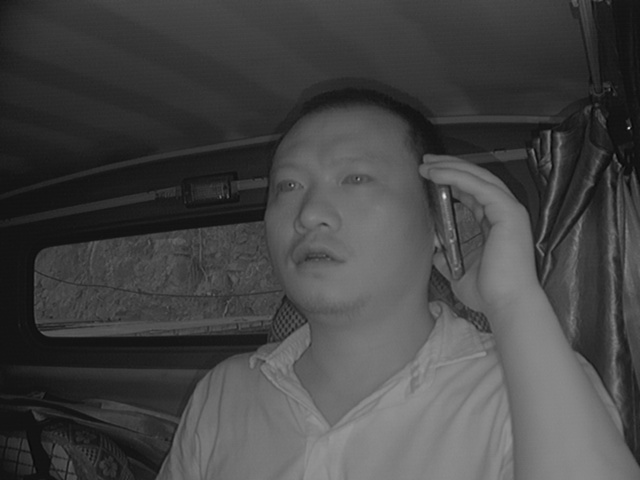hand: (411, 146, 539, 314)
